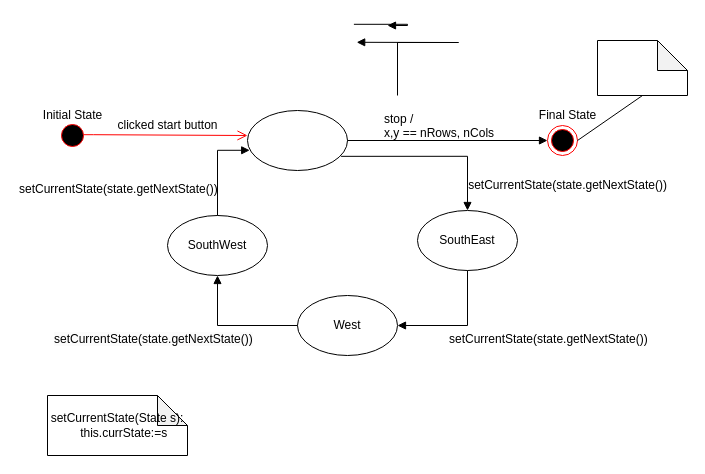
This 705x474 diagram has some shape labels left out. The shapes that lost their labels are listed below. From the top down, each one's centre as x and y in pixels, then its label:
(x=642, y=68): Lawn painted completely
(x=297, y=140): East
